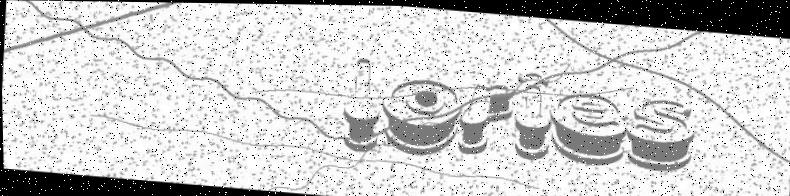e: (545, 87, 630, 167)
i: (508, 66, 555, 161)
l: (338, 52, 386, 153)
o: (377, 71, 463, 158)
r: (454, 76, 517, 158)
s: (621, 93, 696, 173)
